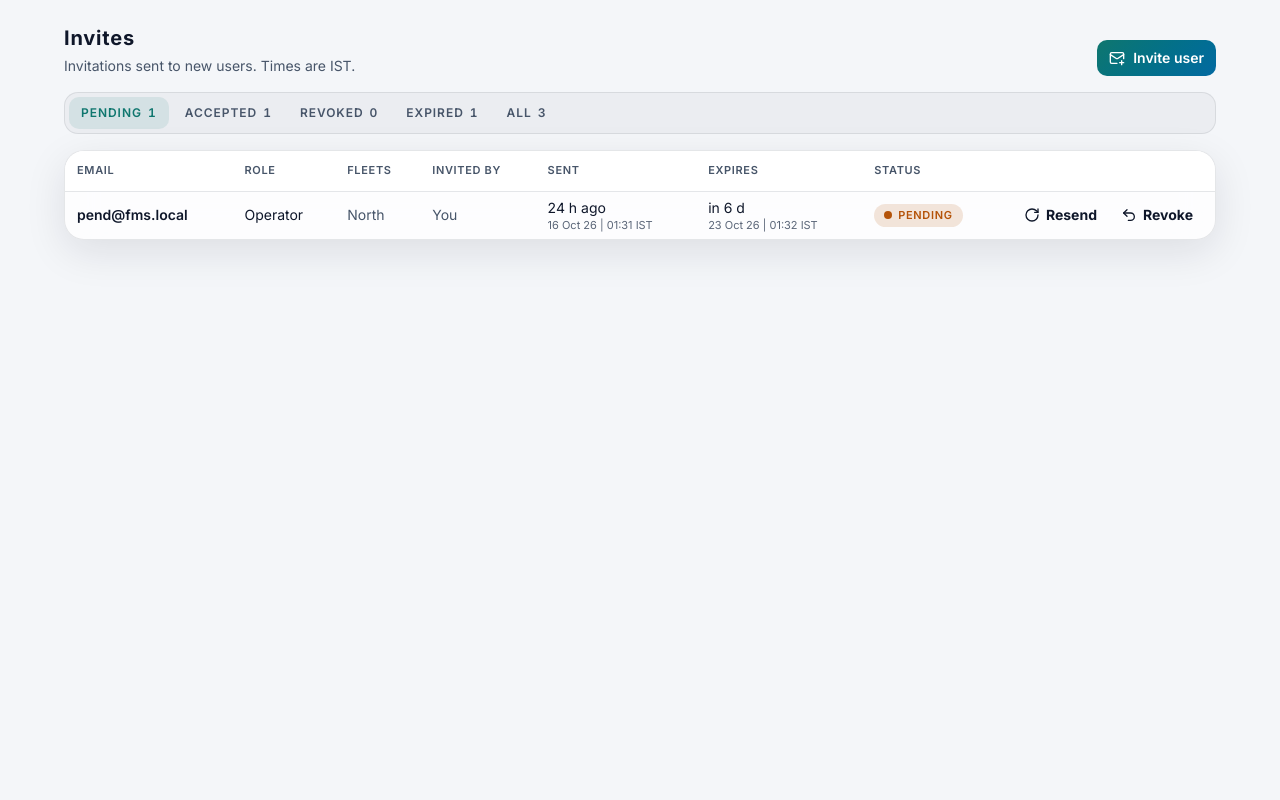
Test: F03-T4: Invites page (F03-R9) › resend works for pending and expired; revoke (pending only) asks first
Click the button "Expired1" at [442, 113], box [394,97,490,129]
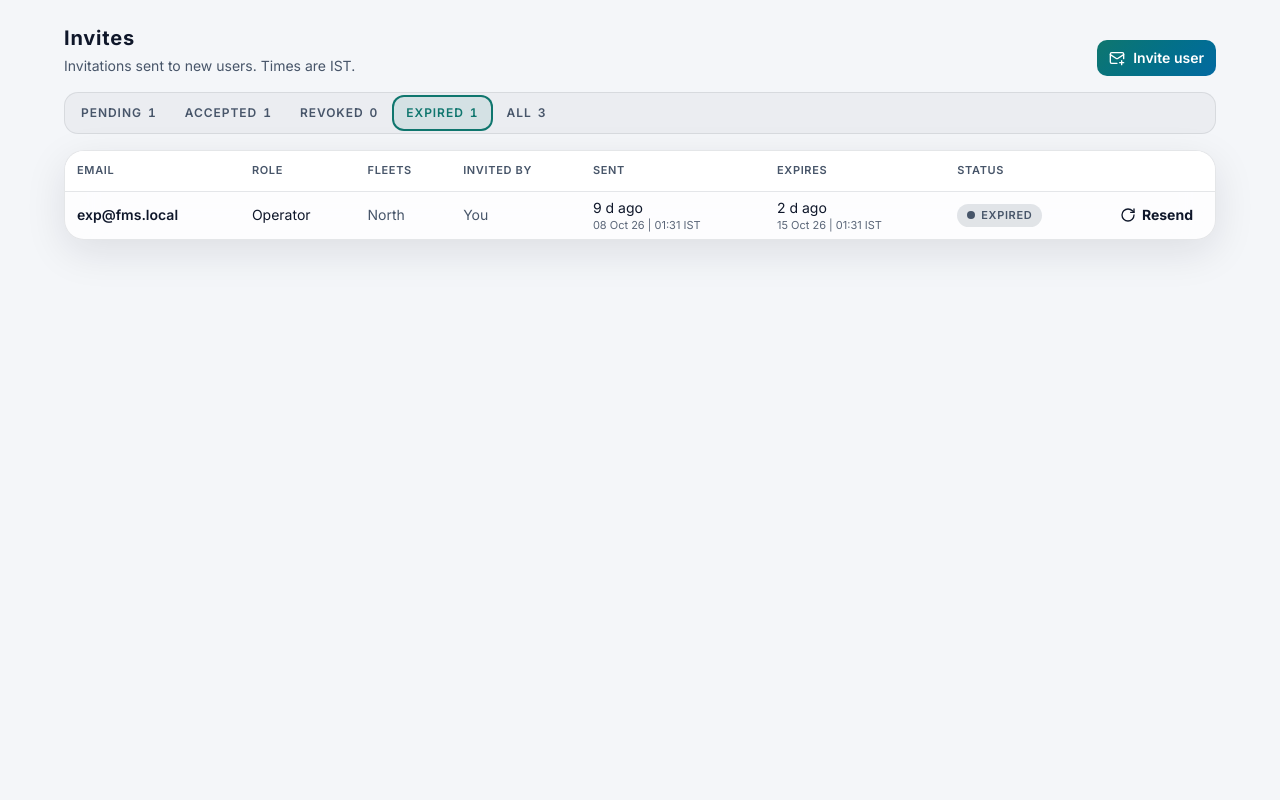
Click the button with aria-label "Resend invite to exp@fms.local" at [1156, 215], box [1110,199,1203,231]
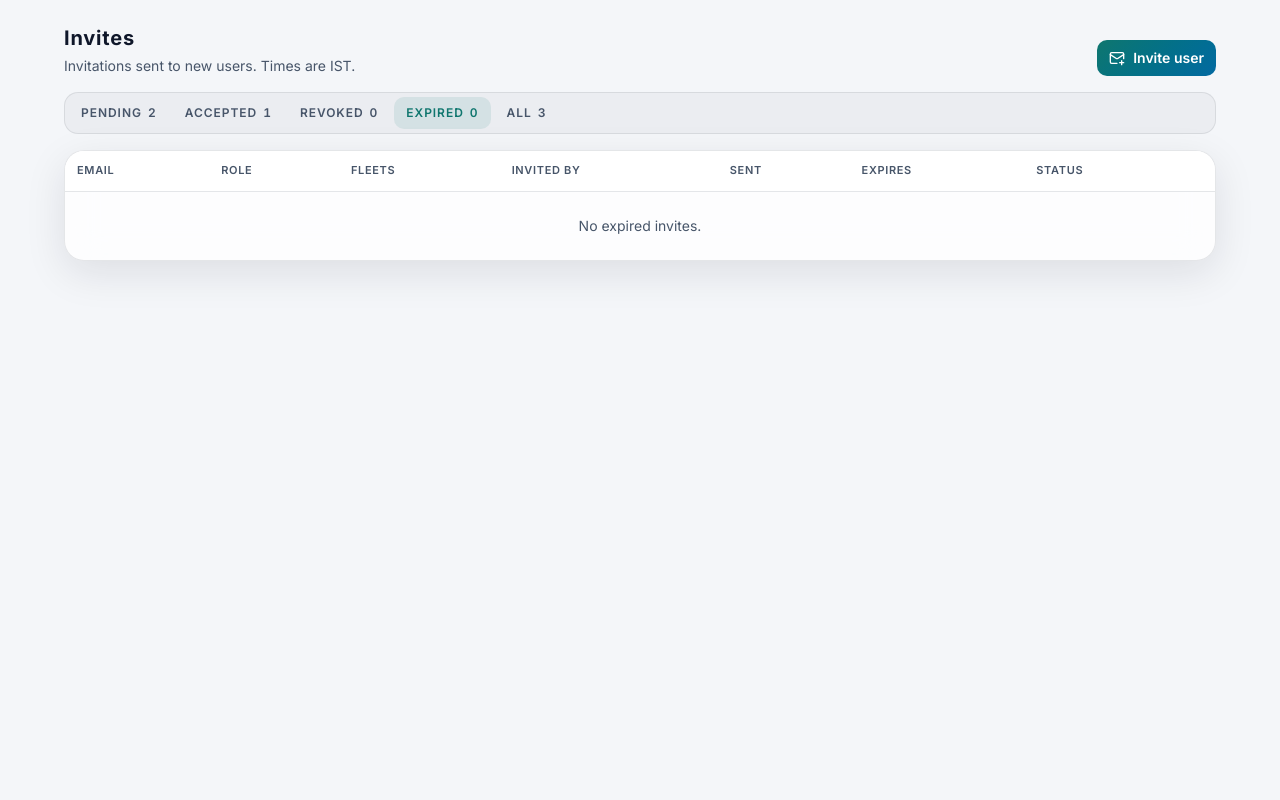
Click the button "Pending2" at [119, 113], box [69,97,169,129]
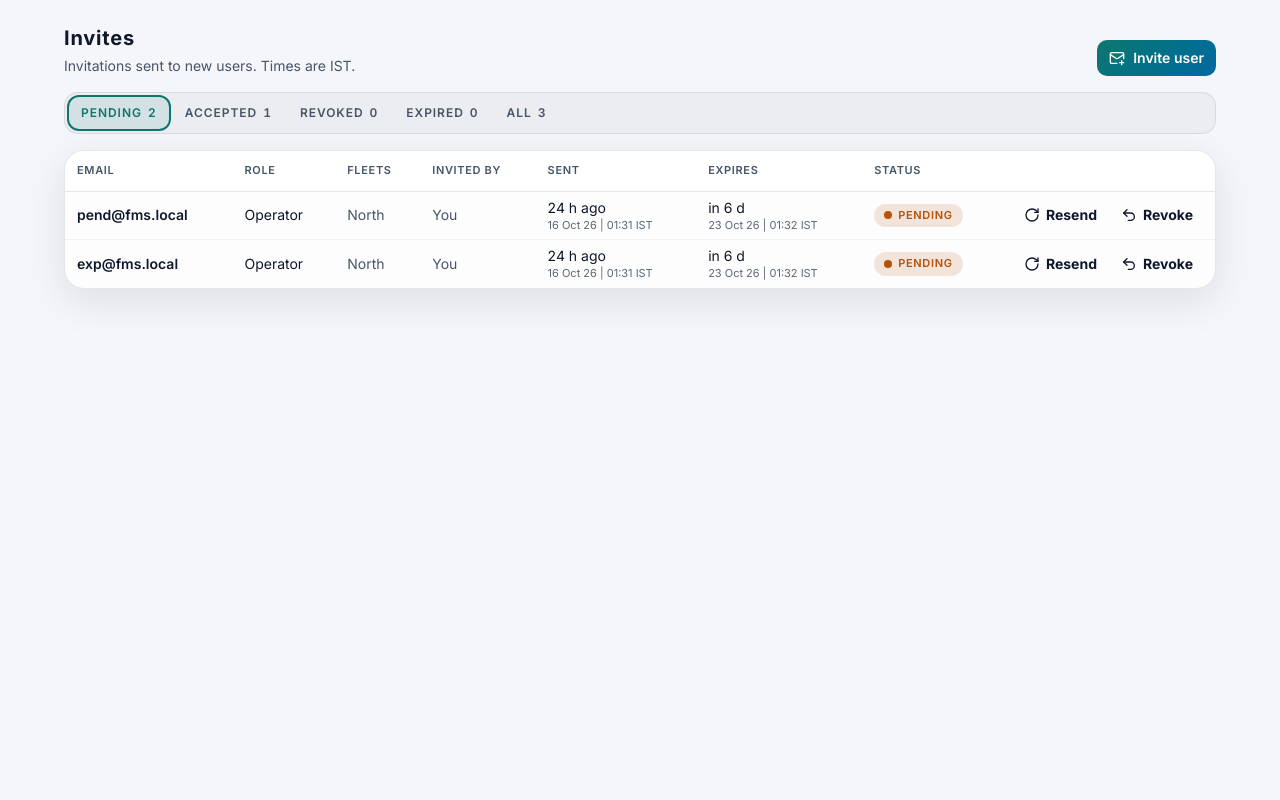
expect the button with aria-label "Resend invite to pend@fms.local" is enabled: met, box [1014,199,1107,231]
Click the button with aria-label "Revoke invite to pend@fms.local" at [1157, 215], box [1111,199,1203,231]
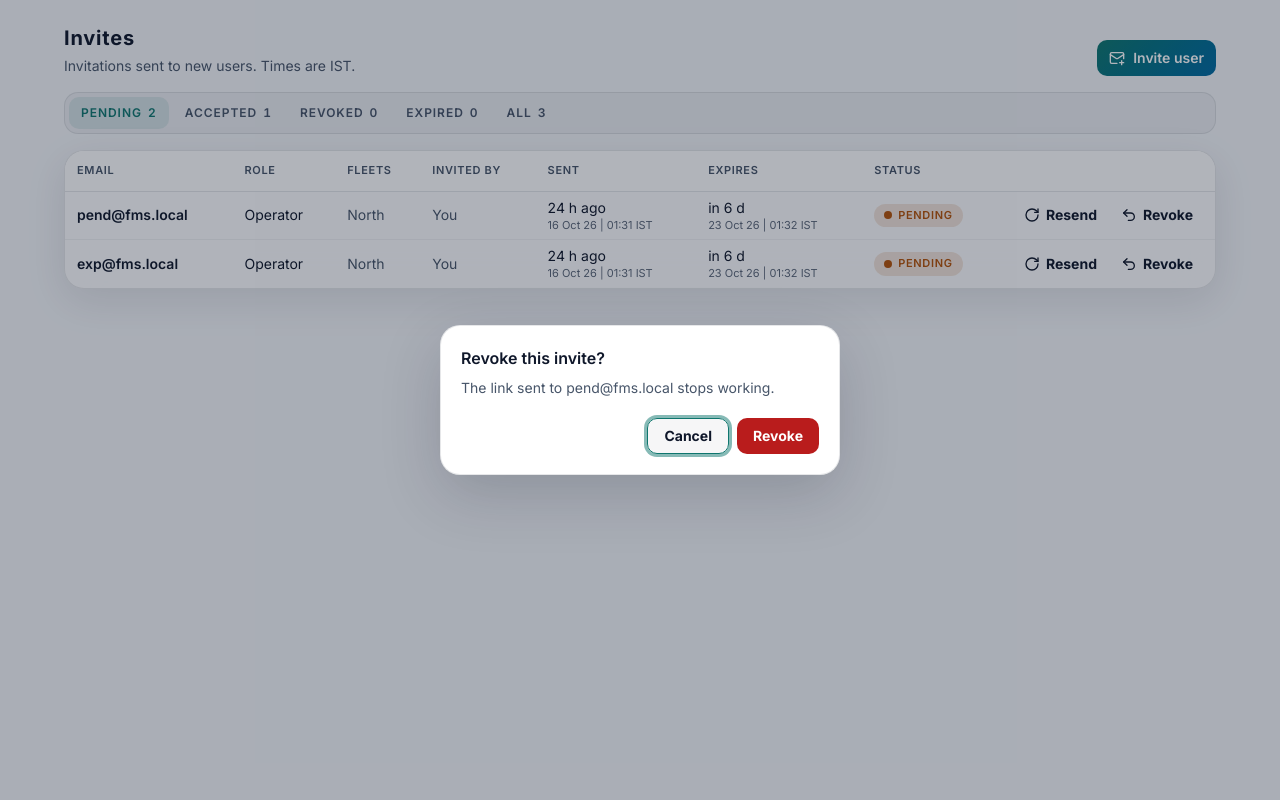
Click the button "Revoke" at [778, 436], box [737,418,819,454]
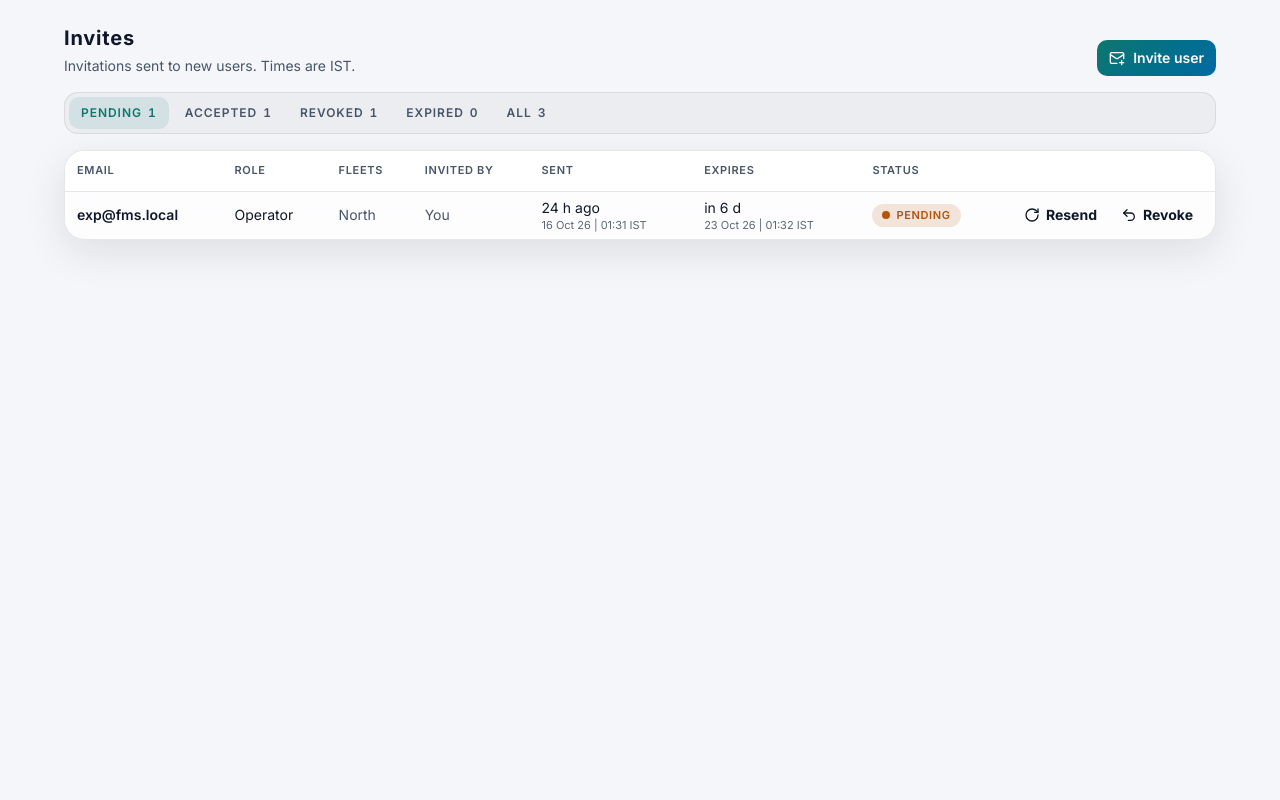
expect the text "pend@fms.local" is gone: met
